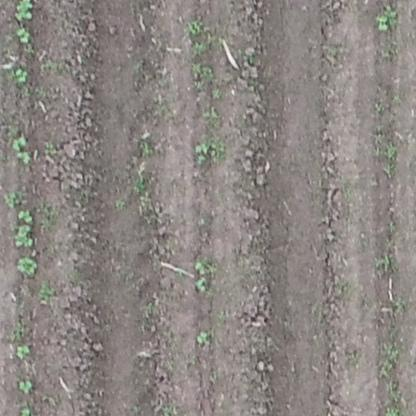vc: (14, 256, 41, 279), (15, 226, 33, 248), (194, 141, 211, 164), (14, 1, 33, 21), (15, 376, 35, 395), (12, 343, 32, 361), (17, 206, 37, 222), (12, 67, 30, 84), (374, 13, 389, 33), (16, 28, 32, 44), (11, 133, 26, 150), (17, 152, 35, 166), (193, 260, 209, 274), (197, 329, 210, 343), (194, 278, 207, 291)
